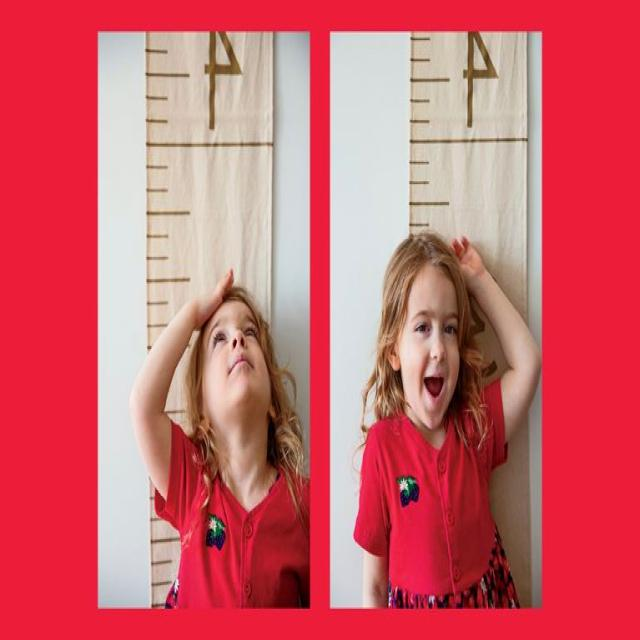child: (353, 225, 543, 607), (128, 267, 311, 607)
